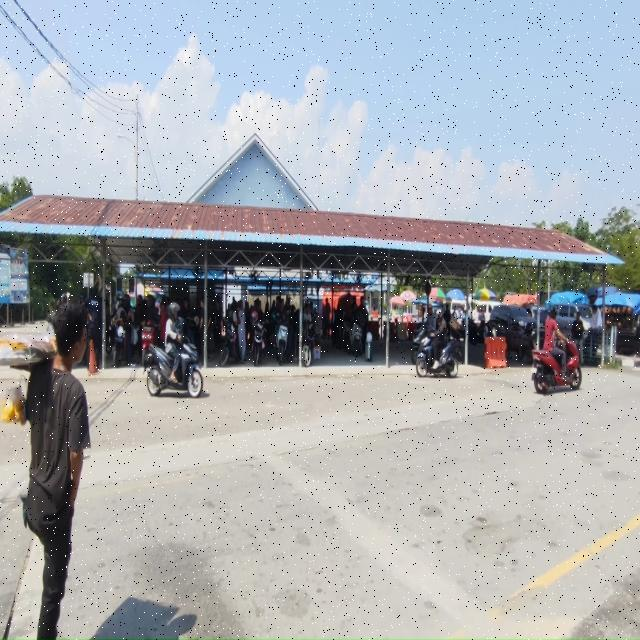Golongan II: (146, 337, 203, 398), (532, 340, 582, 394), (416, 336, 458, 378), (112, 308, 130, 368), (219, 320, 238, 367), (302, 314, 316, 368), (411, 322, 428, 365), (141, 320, 156, 366), (112, 322, 126, 368), (251, 321, 265, 366), (276, 321, 289, 366), (349, 322, 363, 358), (468, 320, 488, 345), (340, 318, 352, 353)
